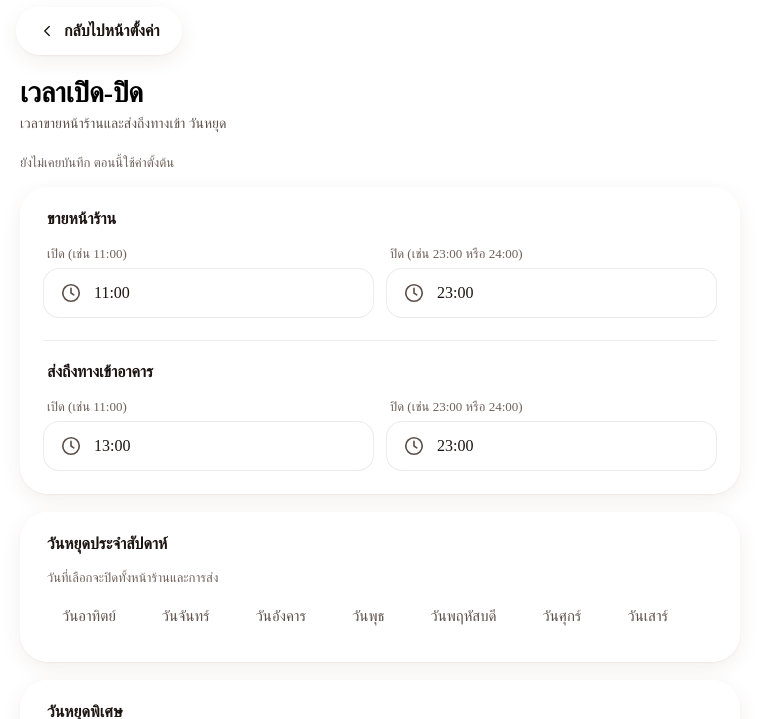
Test: opening hours › a bad time is refused on the screen
Replace the text in the field labelled "เปิด (เช่น 11:00)" below "ส่งถึงทางเข้าอาคาร" with "25:00" at (224, 446), box left=92, top=436, right=357, bottom=456
(page scrolled)
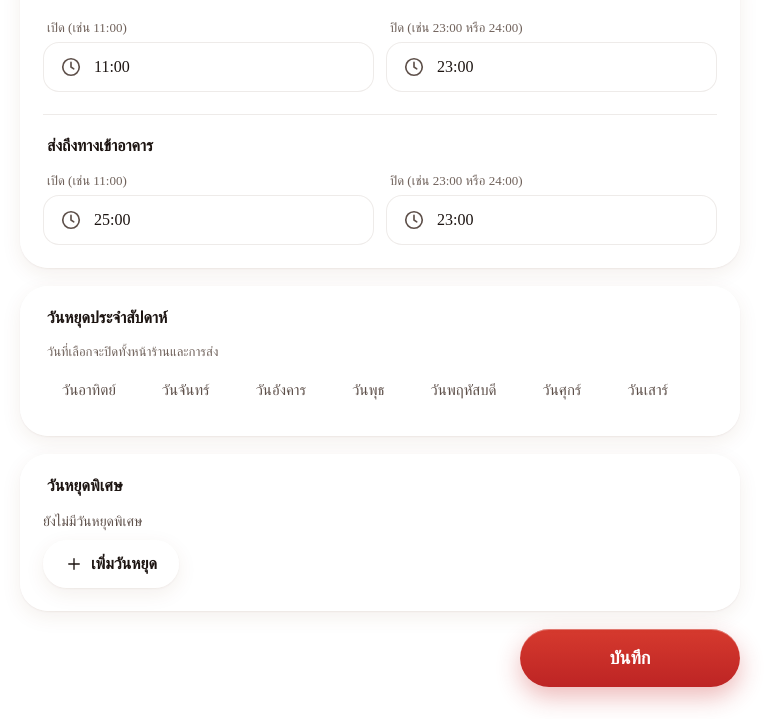
Click the button "บันทึก" at (630, 658), box left=520, top=629, right=740, bottom=687
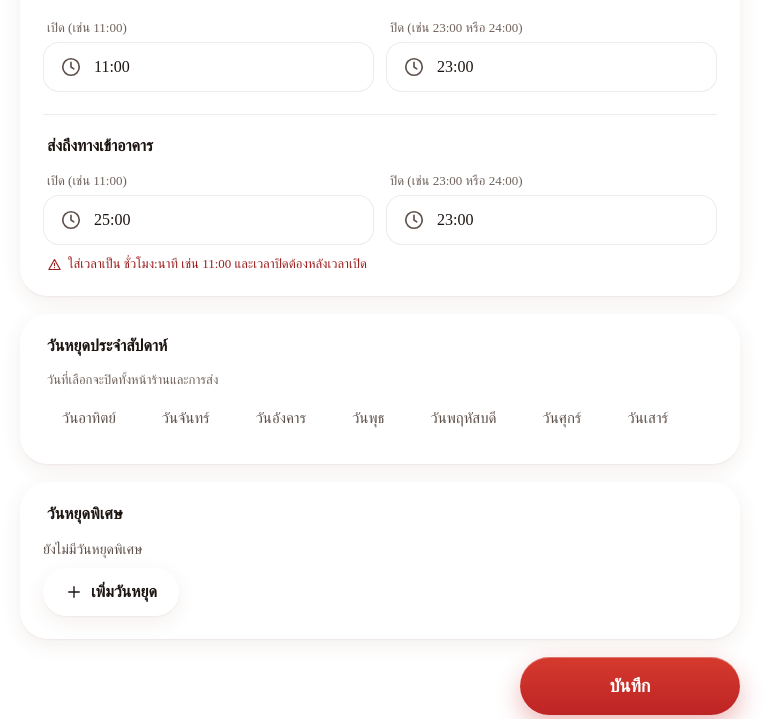
Check: the text "ใส่เวลาเป็น ชั่วโมง:นาที เช่น 11:00 และเวลาปิดต้องหลังเวลาเปิด" is shown, box left=68, top=255, right=367, bottom=273
